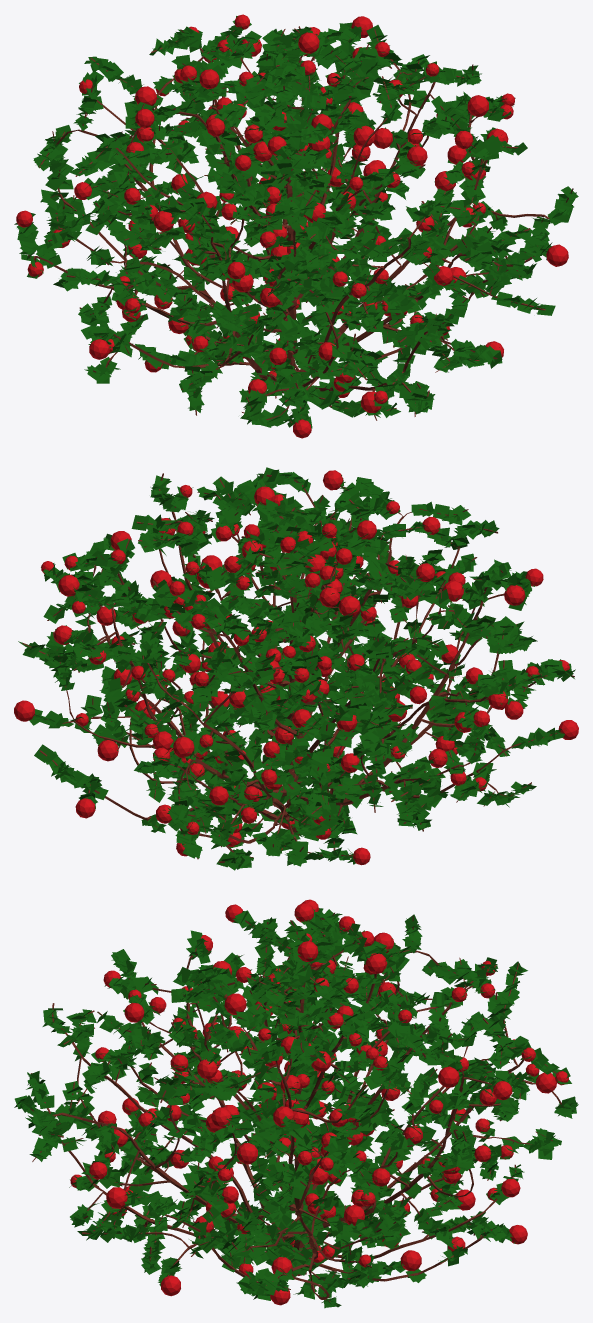
The model's file is bush_all_fruits.fbx.
3 renders of one model, top to bottom at view 1: azimuth 30°, elevation 25°; view 2: azimuth 150°, elevation 25°; view 3: azimuth 270°, elevation 25°, orthographic. The views are drawn at different scales.
Visible parts, largest first — view 1: Leaves.003, Tree.003; view 2: Leaves.003, Tree.003; view 3: Leaves.003, Tree.003.
Part boxes in pixels (x1,y1,x2,y2): Leaves.003: (14,16,578,435); Tree.003: (28,26,573,424); Leaves.003: (18,467,575,870); Tree.003: (22,472,574,862); Leaves.003: (14,908,578,1308); Tree.003: (30,912,563,1305).
Bounding box in the file's own units: 283 × 191 × 282.
